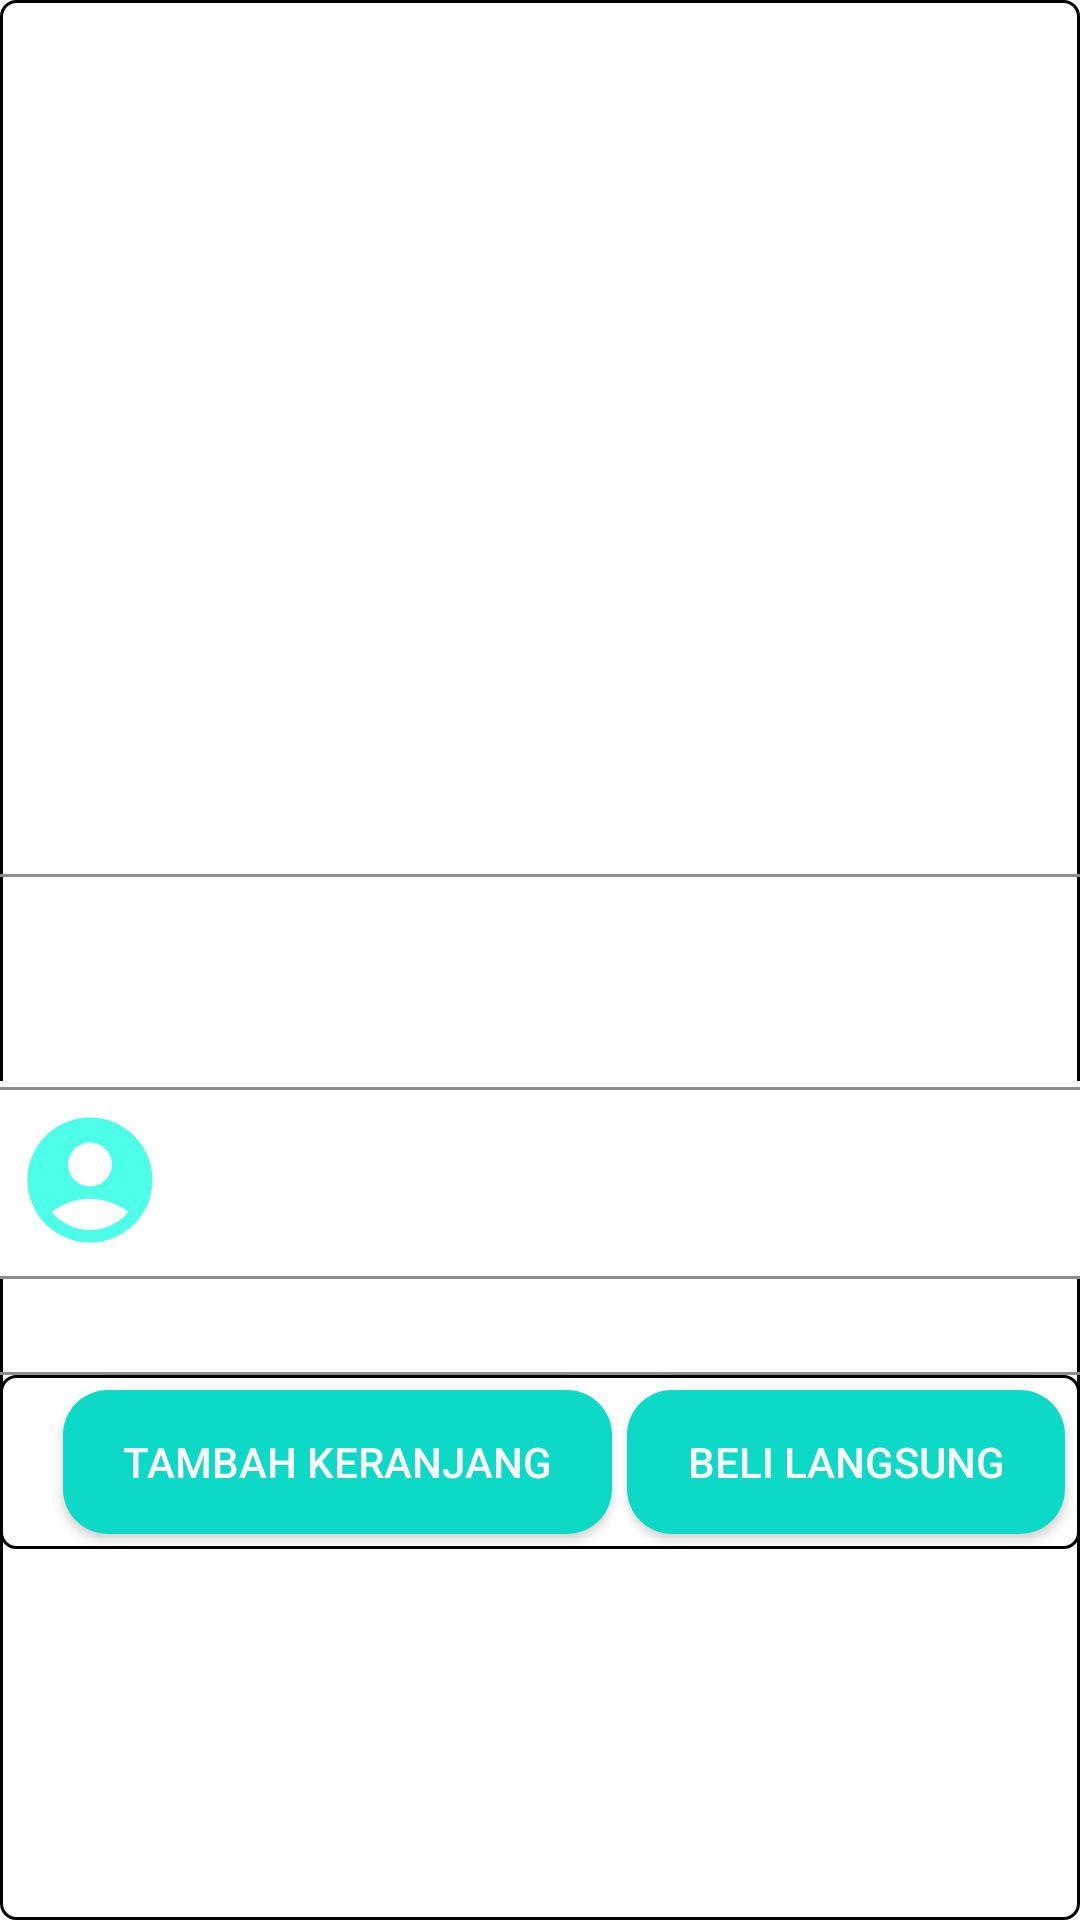

Where to tap for icons on this 1080x1920 app screen, as (x,y):
akun nav: (90,1180)
